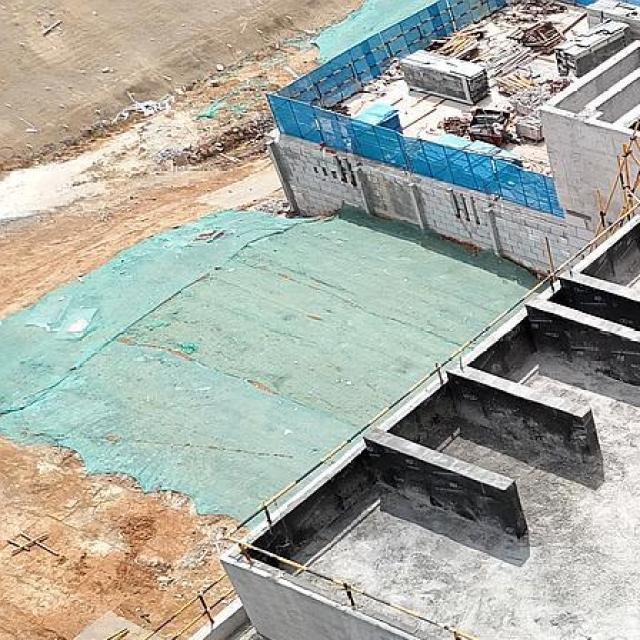edge_guardrail: (221, 201, 640, 640), (290, 0, 491, 106), (139, 573, 235, 640)
